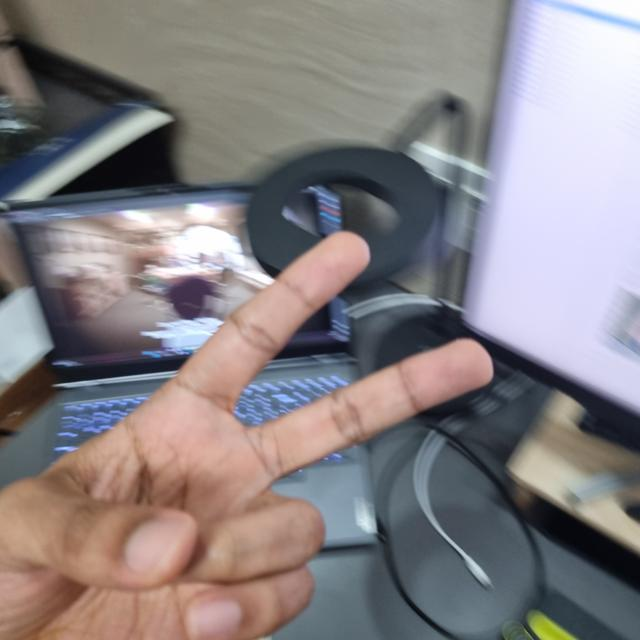Scissors: (0, 230, 495, 639)
